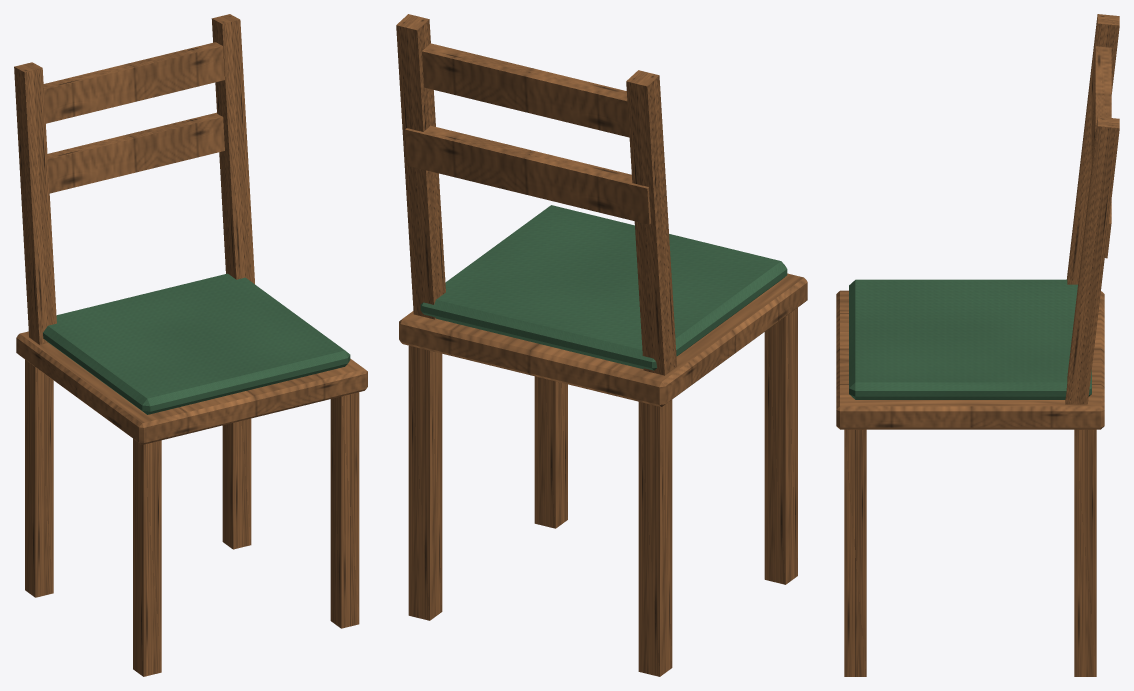
The model's file is OB_Krzeslo.fbx.
The picture shows the model from 3 angles, left to right: view 1: azimuth 30°, elevation 25°; view 2: azimuth 150°, elevation 25°; view 3: azimuth 270°, elevation 25°; orthographic projection. The views are drawn at different scales.
Parts seen in each view (by area): view 1: Krzeslo; view 2: Krzeslo; view 3: Krzeslo.
Boxes of the visible parts, x1,y1,x2,y2 form: Krzeslo: [14, 14, 367, 676]; Krzeslo: [396, 14, 807, 676]; Krzeslo: [836, 14, 1119, 676].
Size of the model in its own units: 0.44 by 0.9505 by 0.4435.
